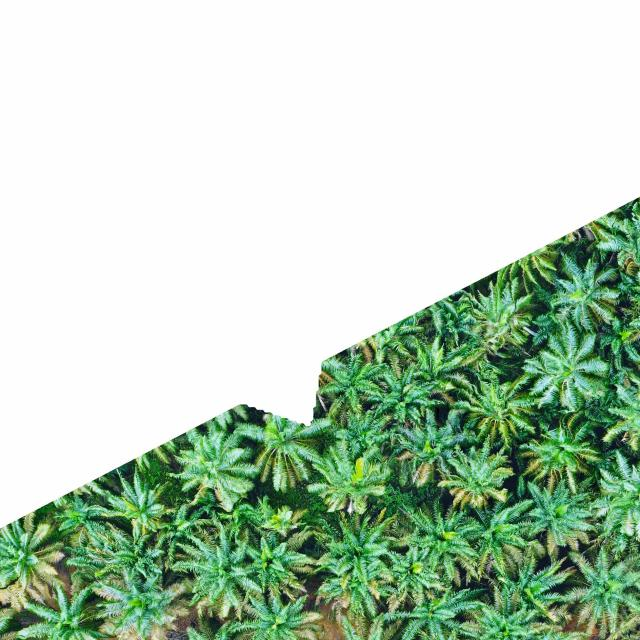Tree: (170, 521, 271, 622), (440, 366, 544, 451), (521, 322, 615, 416), (392, 498, 486, 587), (311, 504, 398, 599), (559, 538, 640, 640), (86, 562, 190, 640), (516, 409, 602, 493), (233, 524, 323, 604), (453, 491, 535, 578), (13, 571, 112, 640), (380, 579, 491, 640), (546, 249, 624, 332), (520, 476, 599, 556), (435, 442, 514, 518), (306, 445, 390, 516), (459, 580, 552, 640), (498, 556, 578, 624), (586, 450, 640, 549), (227, 587, 326, 640), (370, 360, 448, 426), (378, 542, 452, 607), (152, 498, 217, 566), (99, 525, 168, 588), (595, 368, 640, 452), (326, 409, 395, 457), (613, 282, 640, 369), (626, 566, 640, 640)
